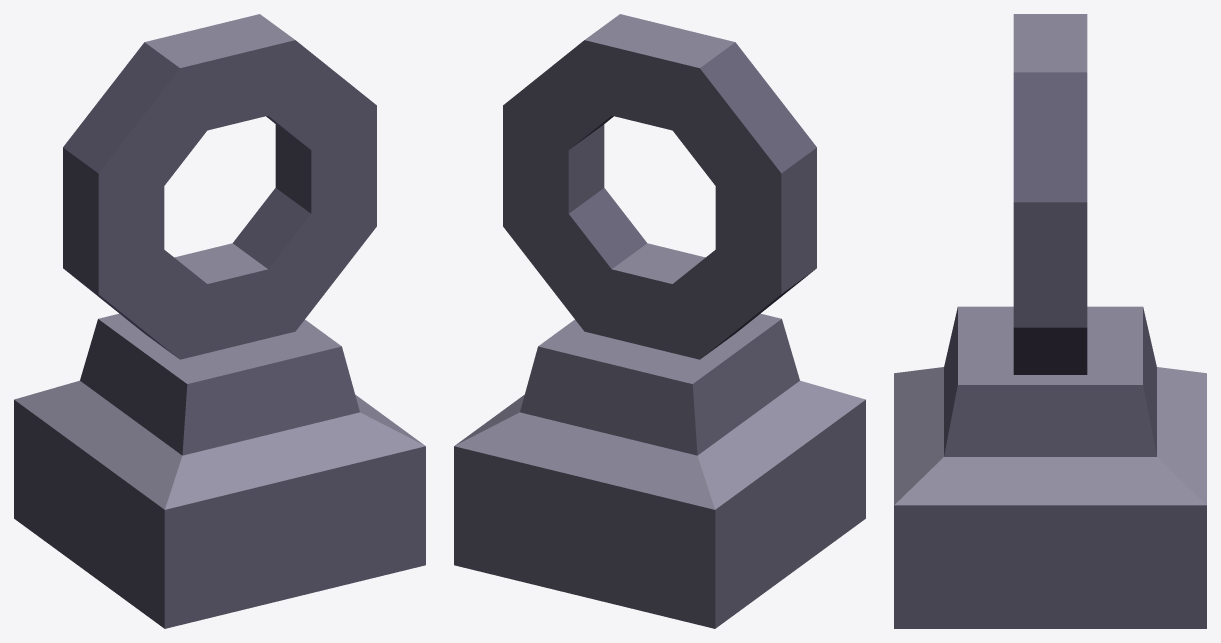
File: goal.fbx
3 views of the same model, side by side, from view 1: azimuth 30°, elevation 25°; view 2: azimuth 150°, elevation 25°; view 3: azimuth 270°, elevation 25° (orthographic). The views are drawn at different scales.
Visible parts, largest first — view 1: Goal; view 2: Goal; view 3: Goal.
Part boxes in pixels (box(x1,y1,x2,y2)): Goal: box(14, 14, 425, 628); Goal: box(454, 14, 865, 628); Goal: box(894, 14, 1206, 628).
Bounding box in the file's own units: 128 × 235 × 137.
